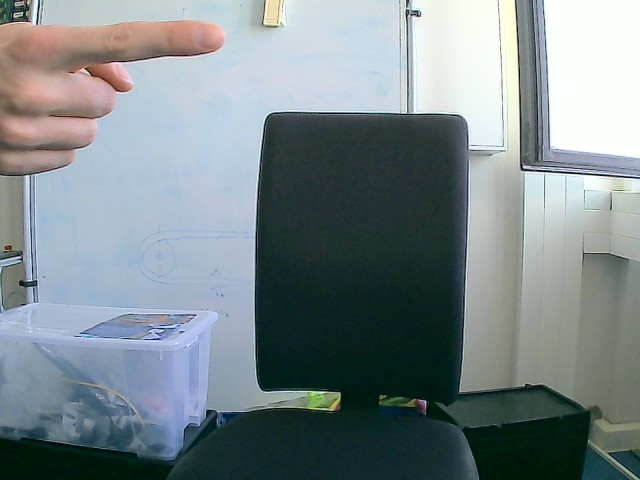left: (0, 18, 226, 177)
